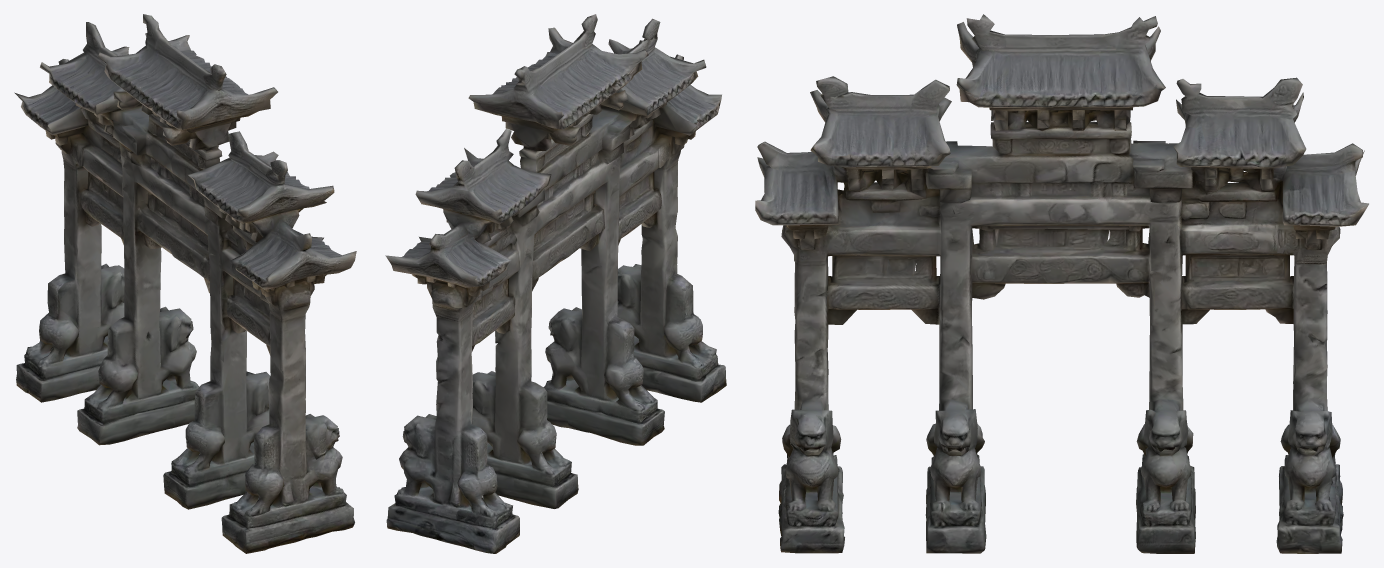
The model's file is paifang-b.glb.
3 views of the same model, side by side, from view 1: azimuth 30°, elevation 25°; view 2: azimuth 150°, elevation 25°; view 3: azimuth 270°, elevation 25° (orthographic). The views are drawn at different scales.
Parts seen in each view (by area): view 1: tripo_node_767ef9fb-692c-4941-8b00-e280f5c3ac2c; view 2: tripo_node_767ef9fb-692c-4941-8b00-e280f5c3ac2c; view 3: tripo_node_767ef9fb-692c-4941-8b00-e280f5c3ac2c.
Part boxes in pixels (box(x1,y1,x2,y2)): tripo_node_767ef9fb-692c-4941-8b00-e280f5c3ac2c: box(14, 14, 356, 553); tripo_node_767ef9fb-692c-4941-8b00-e280f5c3ac2c: box(385, 14, 726, 553); tripo_node_767ef9fb-692c-4941-8b00-e280f5c3ac2c: box(755, 14, 1368, 553).
Size of the model in its own units: 0.2525 by 0.9089 by 1.
Materials: 1 (1 with a texture image).
